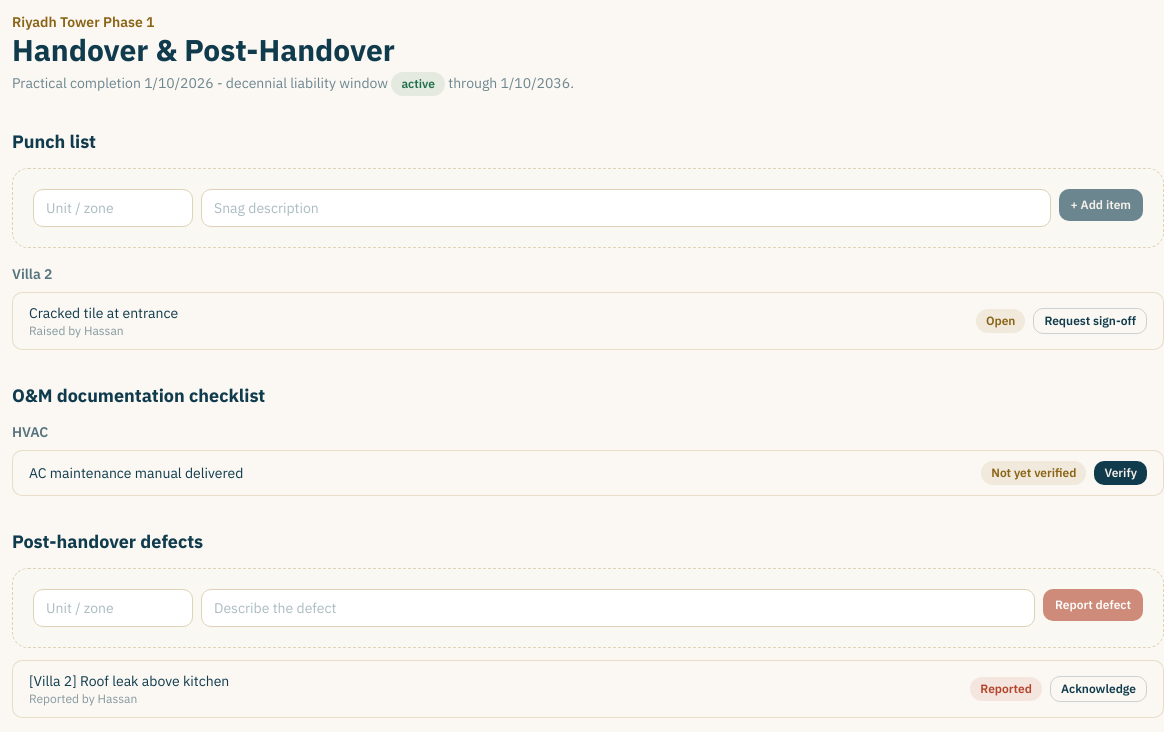
Test case: HandoverPage › verifies an O&M item and surfaces failures without a stuck busy flag
The width and height of the screenshot is (1164, 732).
What coordinates should you click on to do the following:
click the button "Verify"
I would click on:
 (1121, 473)
Its box is [1094, 461, 1147, 485].
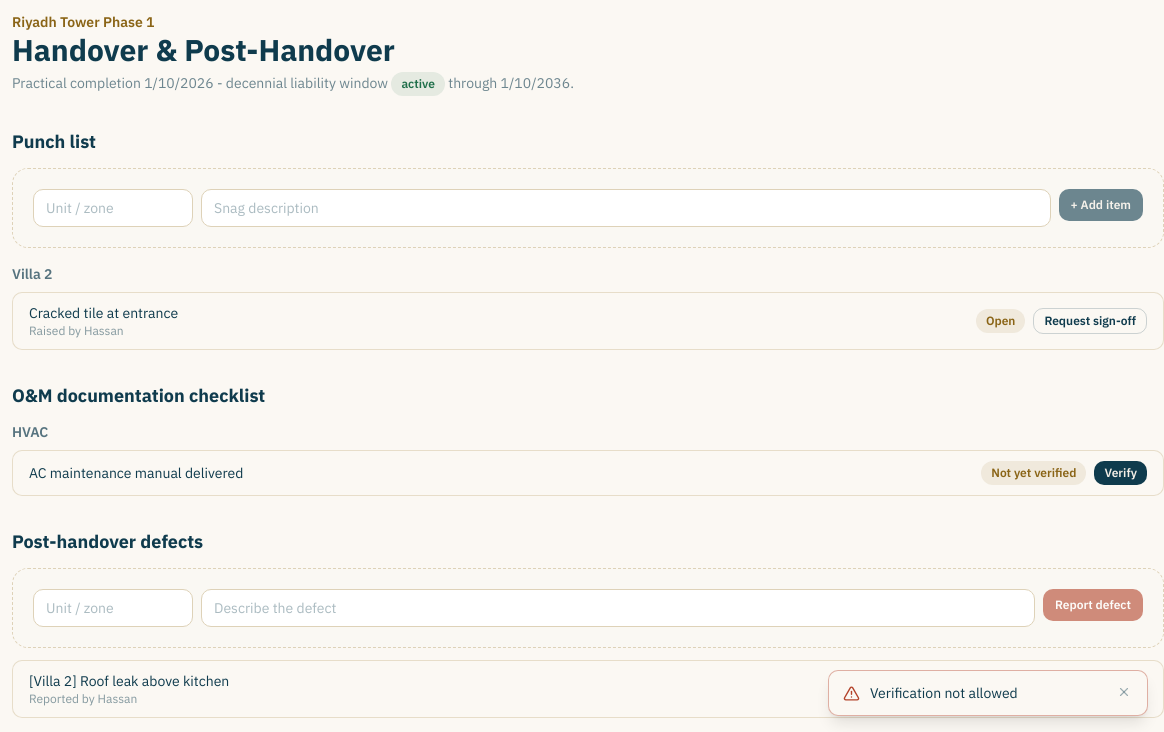
Result: the text "Verification not allowed" is shown at [870, 684, 1018, 702]
